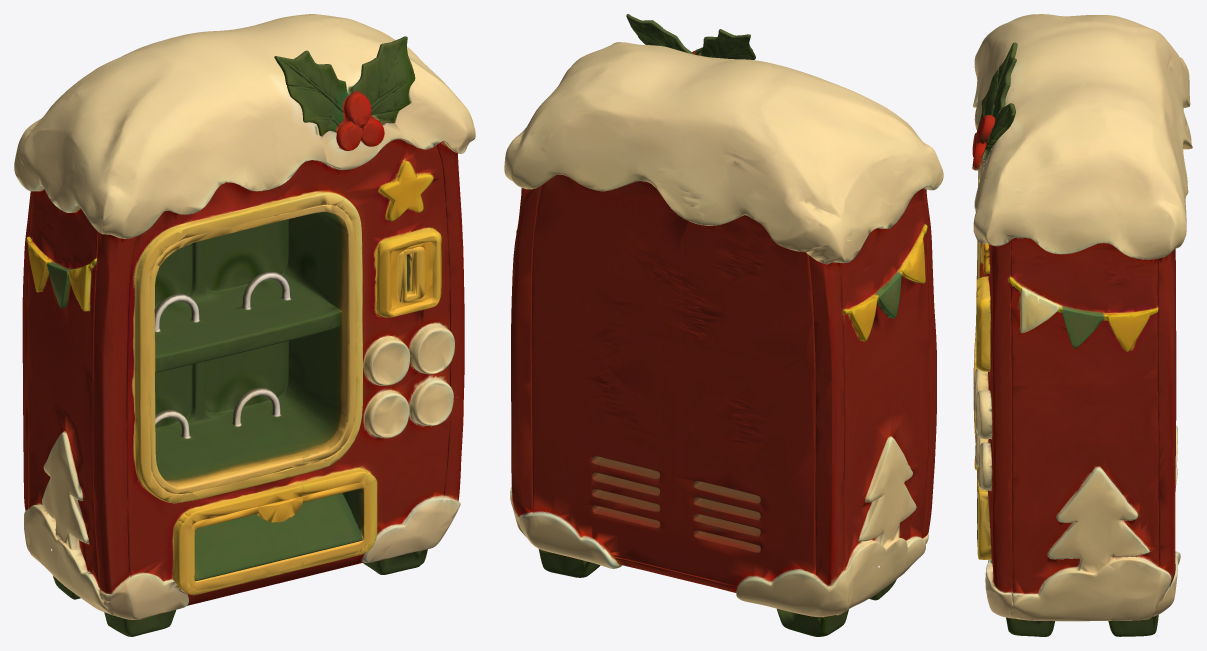
File: vending-machine-web.glb
The picture shows the model from 3 angles, left to right: view 1: azimuth 30°, elevation 25°; view 2: azimuth 150°, elevation 25°; view 3: azimuth 270°, elevation 25°; orthographic projection. The views are drawn at different scales.
Parts seen in each view (by area): view 1: tripo_node_752fdc37-de0a-4f84-a123-66a39800b9c5; view 2: tripo_node_752fdc37-de0a-4f84-a123-66a39800b9c5; view 3: tripo_node_752fdc37-de0a-4f84-a123-66a39800b9c5.
Part boxes in pixels (box(x1,y1,x2,y2)): tripo_node_752fdc37-de0a-4f84-a123-66a39800b9c5: box(14, 14, 475, 636); tripo_node_752fdc37-de0a-4f84-a123-66a39800b9c5: box(504, 14, 943, 636); tripo_node_752fdc37-de0a-4f84-a123-66a39800b9c5: box(972, 14, 1192, 636).
Bounding box in the file's own units: 0.7062 × 0.979 × 0.3715.
Materials: 1 (1 with a texture image).
